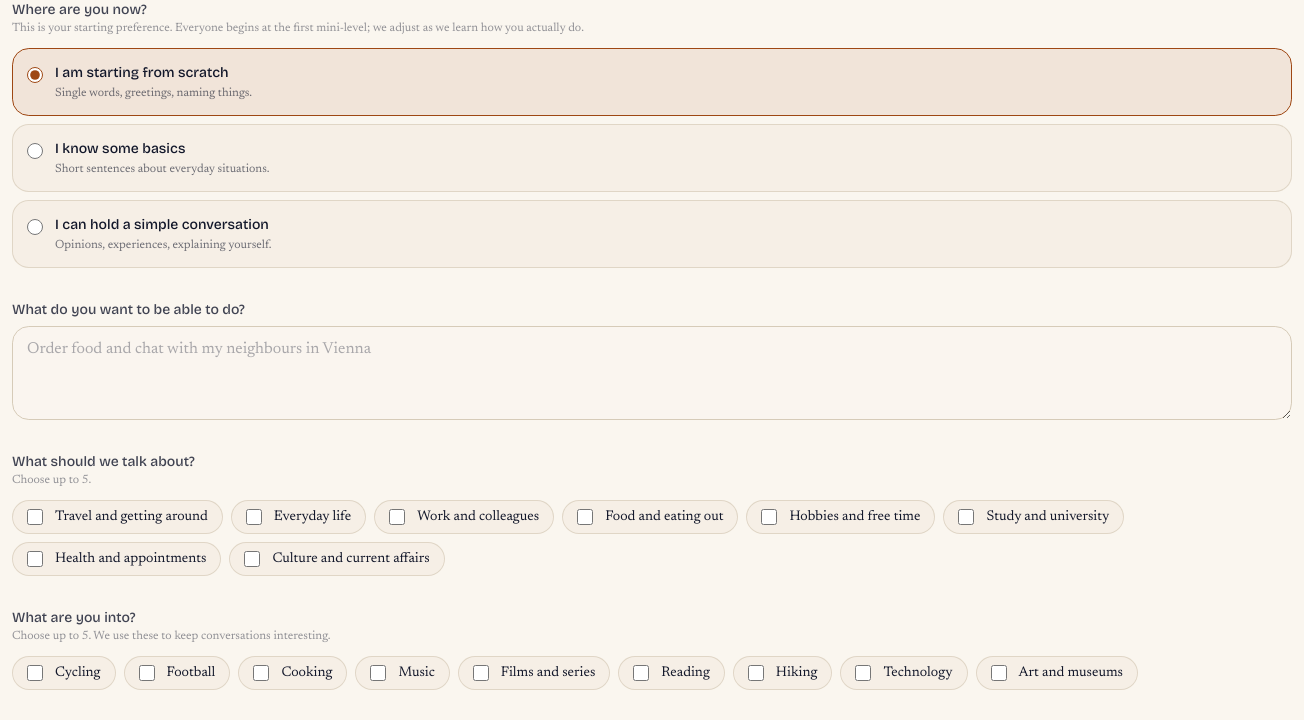
Test: when the server refuses › keeps what the learner already typed
Type "Order coffee in Vienna" into the text box labelled "What do you want to be able to do?" at [652, 373], box x1=12 y1=326 x2=1292 y2=420
(page scrolled)
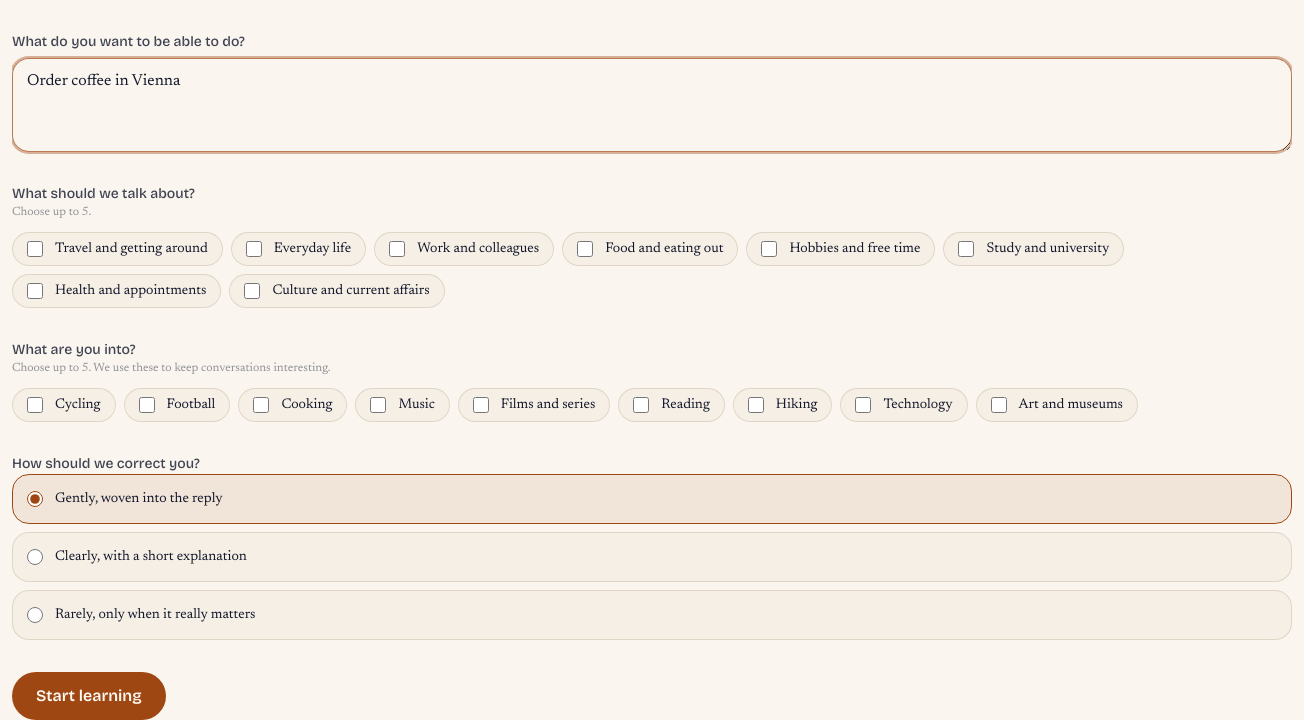
Click the button "Start learning" at [89, 696], box x1=12 y1=672 x2=166 y2=719
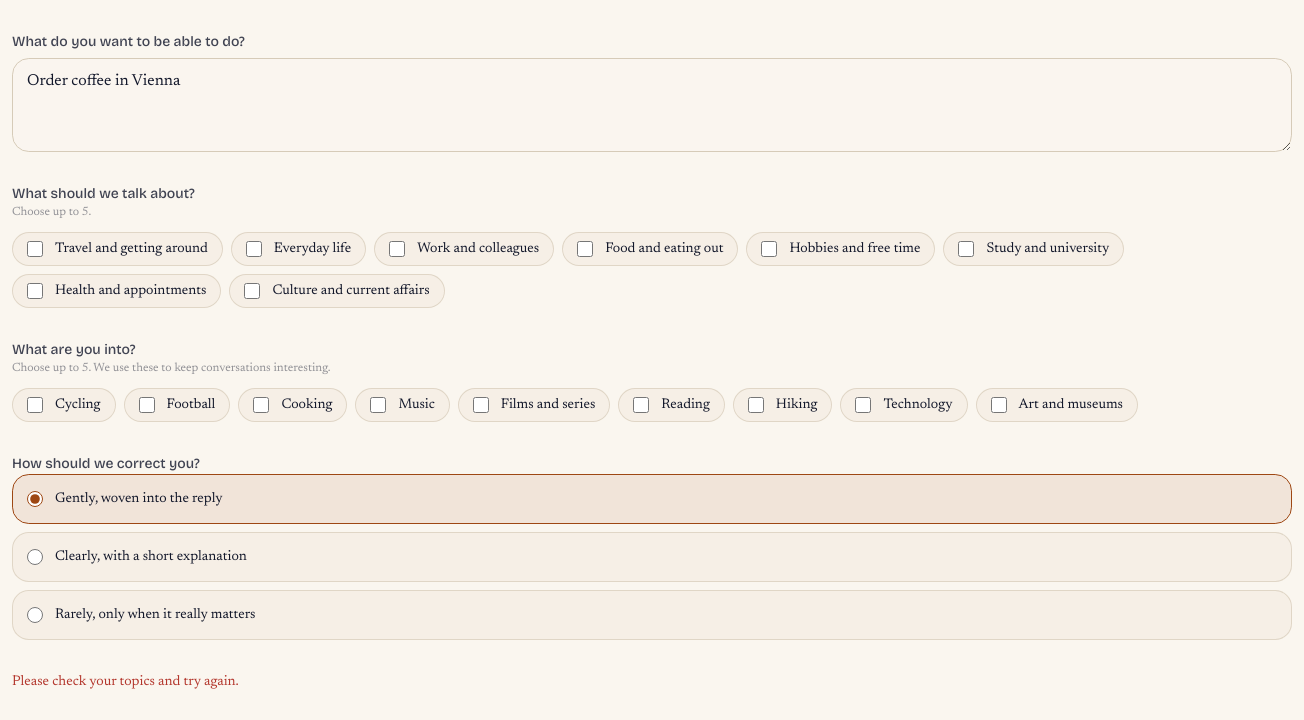
Expected: the message shows "check your topics", x1=12 y1=675 x2=239 y2=689
